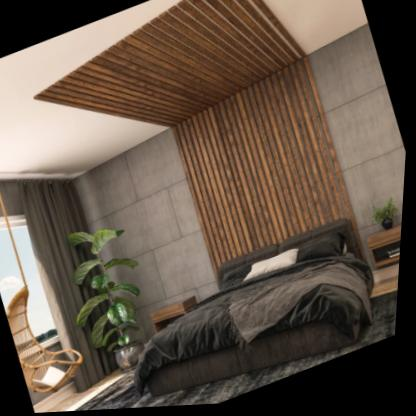Bed: (114, 212, 391, 411)
Curtains: (2, 164, 147, 402)
Wall Panel: (62, 55, 413, 341)
